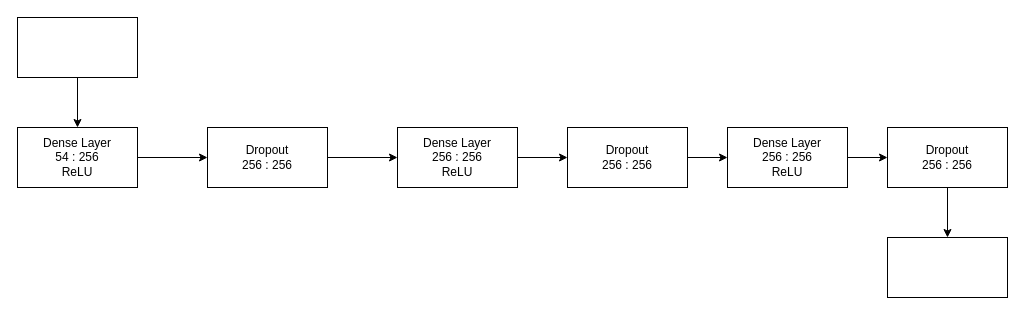
Image size: 1025x315. Some labels were removed from this diagram. The centre of each missing label's shape, as x and y in pixels:
Input Layer 54 : 54: the point at 77,47
Output Layer 256 : 5 Softmax: the point at 947,267
